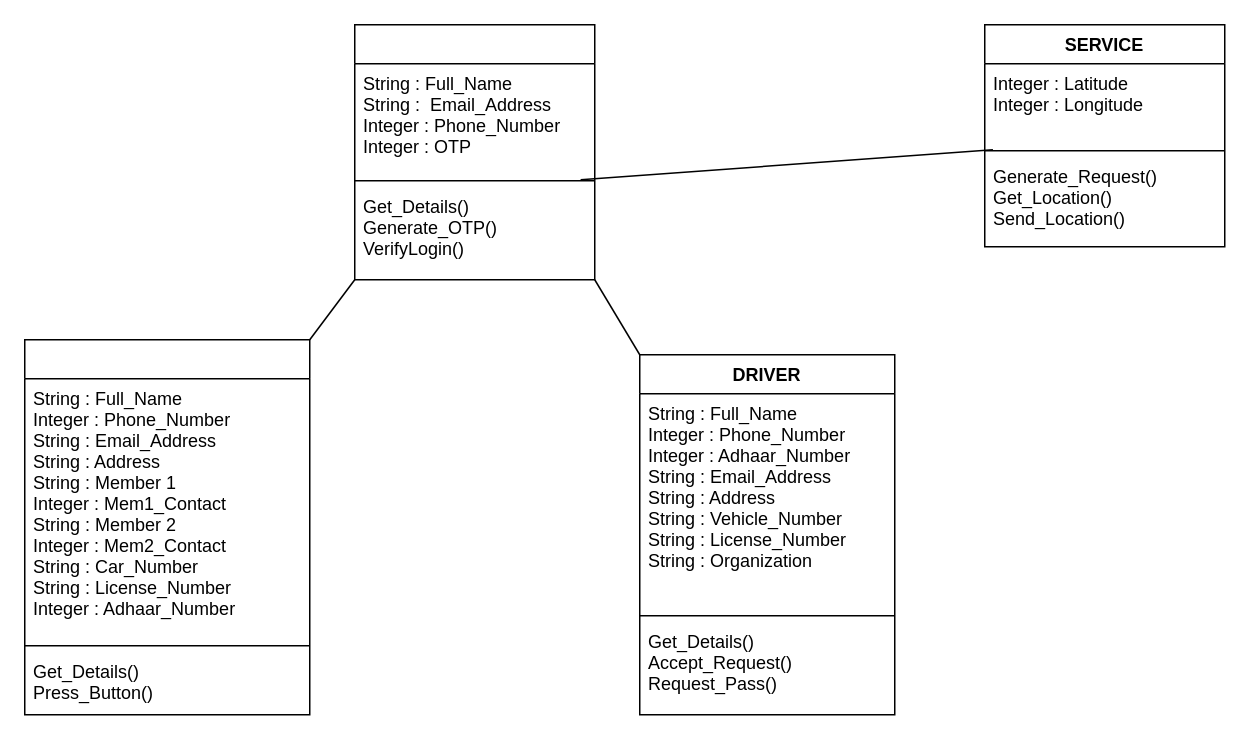
Some shapes in this 1250 by 740 pixel diagram are drawn without their labels. The box of each missing label's shape, as (x1, y1, x2, y2) in pixels:
CLIENT: (23, 338, 310, 715)
REGISTER: (353, 23, 595, 280)
